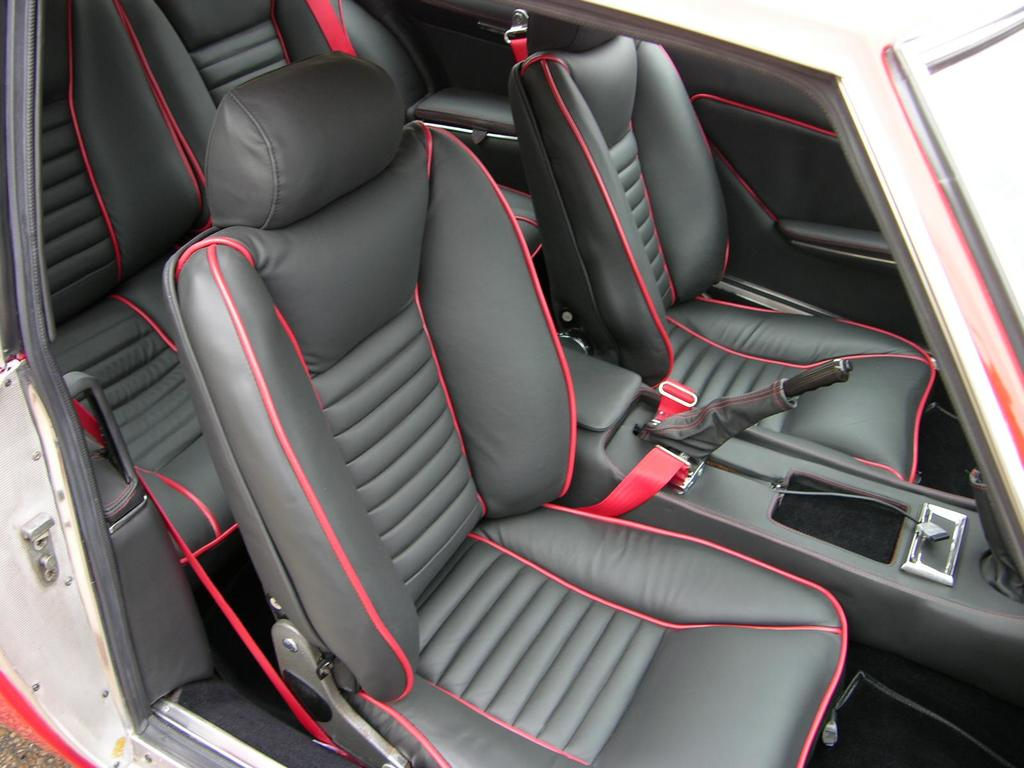Car: (14, 6, 1024, 755)
